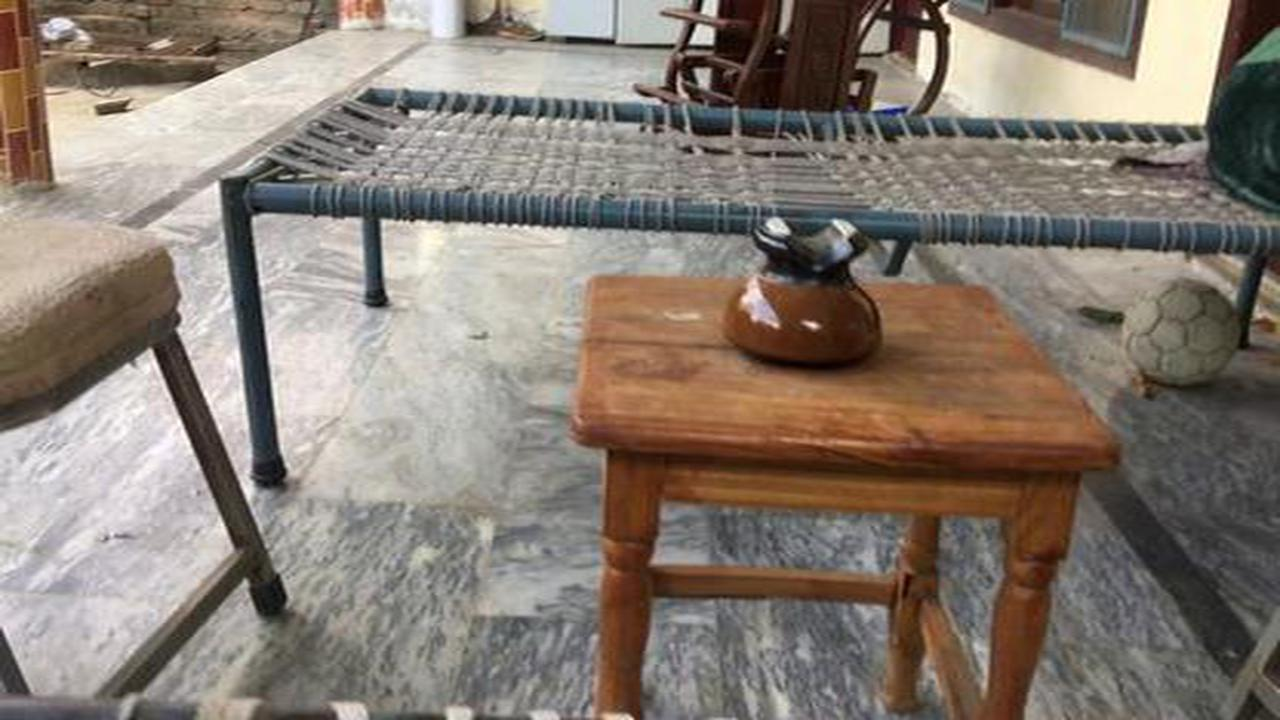insulator_pin: (708, 194, 908, 376)
